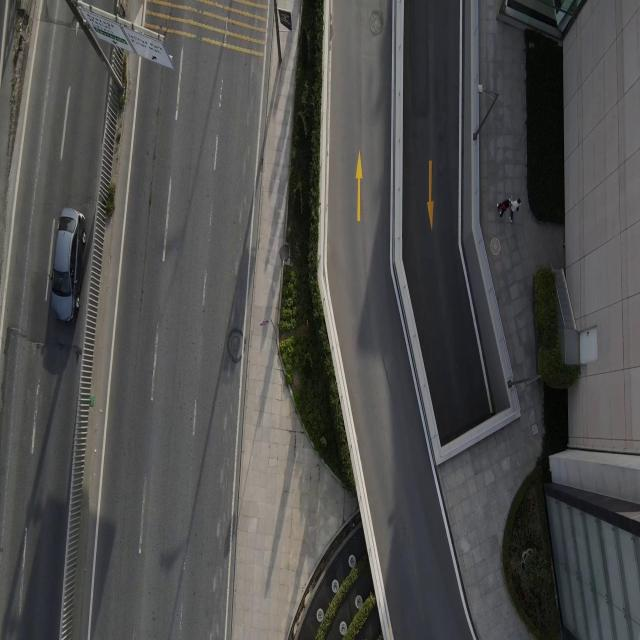p3rson: (496, 197, 512, 220), (509, 196, 521, 223)
